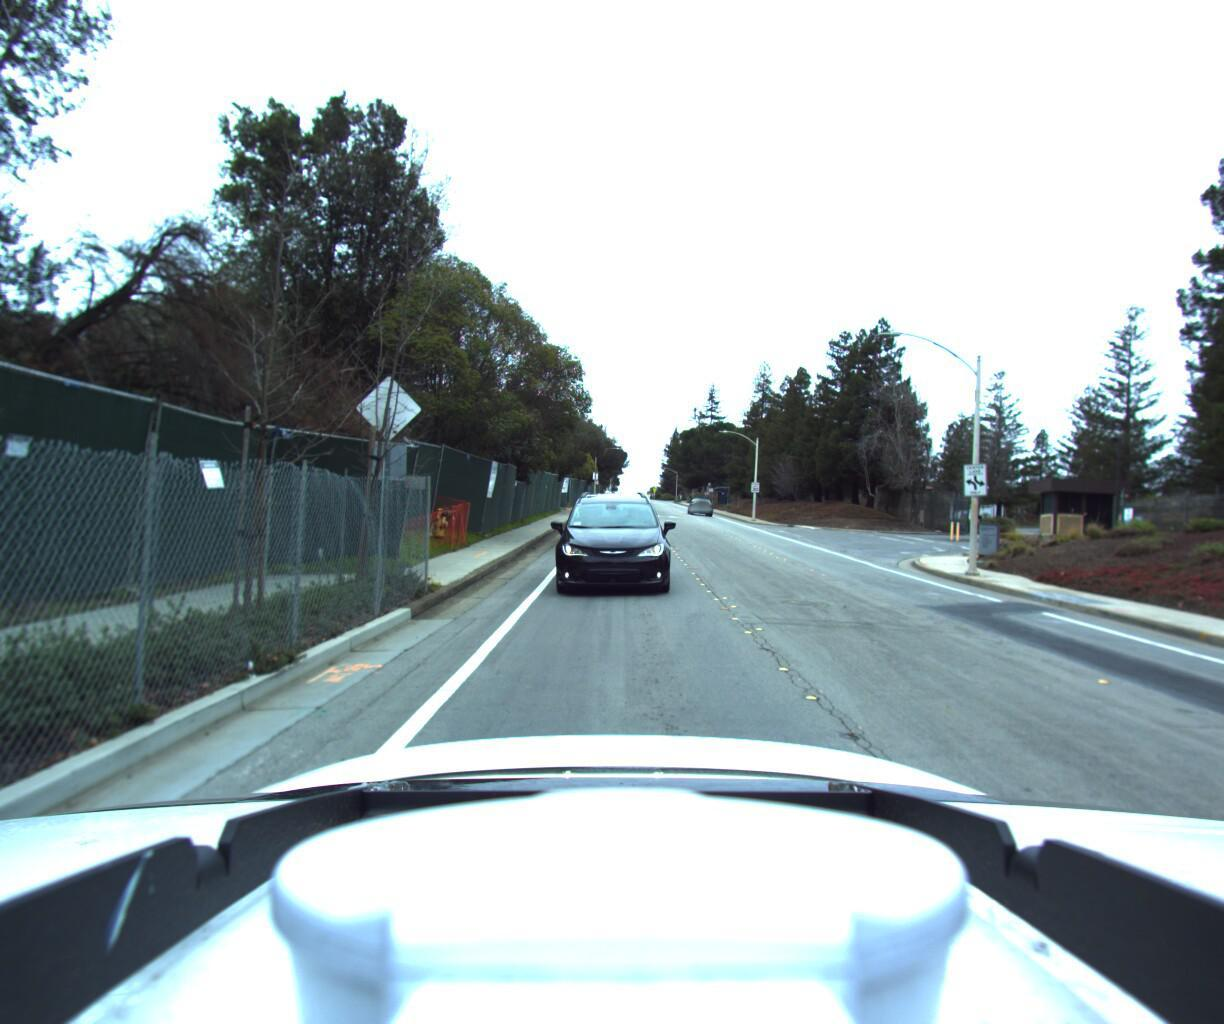car: (542, 471, 672, 598), (685, 493, 713, 517)
